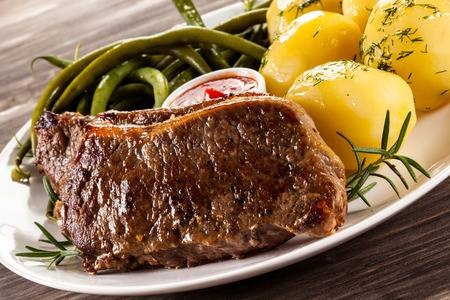boiled potatoes: (297, 66, 407, 160), (369, 2, 450, 91), (262, 16, 358, 83)
